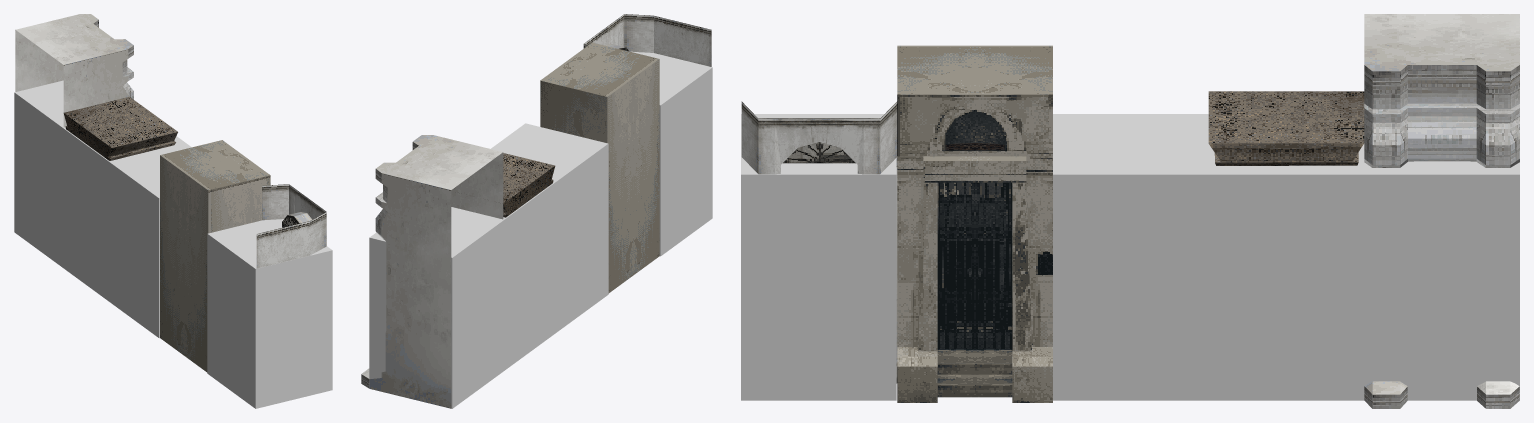
File: tileset.glb
The picture shows the model from 3 angles, left to right: view 1: azimuth 30°, elevation 25°; view 2: azimuth 150°, elevation 25°; view 3: azimuth 270°, elevation 25°; orthographic projection. The views are drawn at different scales.
Visible parts, largest first — view 1: Cube-colonly.001, bov4, bov1, Cube-colonly.002, Cube-colonly.004, Cube-colonly.003, bov2, bov5; view 2: bov1, bov4, Cube-colonly.004, Cube-colonly.002, Cube-colonly.001, Cube-colonly.003, bov5, bov2; view 3: bov4, Cube-colonly.002, Cube-colonly.003, Cube-colonly.001, Cube-colonly.004, bov1, bov2, bov5.
Part boxes in pixels (box(x1,y1,x2,y2)): Cube-colonly.001: box(207, 219, 332, 408); bov4: box(160, 140, 270, 372); bov1: box(15, 14, 133, 127); Cube-colonly.002: box(111, 144, 191, 338); Cube-colonly.004: box(14, 80, 63, 267); Cube-colonly.003: box(62, 127, 187, 302); bov2: box(63, 97, 177, 160); bov5: box(256, 184, 326, 268); bov1: box(361, 135, 503, 408); bov4: box(540, 42, 659, 293); Cube-colonly.004: box(369, 207, 504, 408); Cube-colonly.002: box(491, 123, 608, 332); Cube-colonly.001: box(631, 51, 712, 256); Cube-colonly.003: box(503, 181, 556, 370); bov5: box(583, 14, 711, 66); bov2: box(503, 153, 555, 217); bov4: box(897, 45, 1052, 402); Cube-colonly.002: box(1053, 114, 1208, 400); Cube-colonly.003: box(1208, 143, 1364, 400); Cube-colonly.001: box(741, 114, 896, 400); Cube-colonly.004: box(1364, 161, 1519, 400); bov1: box(1364, 14, 1519, 408); bov2: box(1208, 91, 1364, 165); bov5: box(741, 101, 897, 383).
Size of what is drawn, in the model's own units: 2.09 by 4.64 by 10.01.
Materials: 13 (13 with a texture image).
